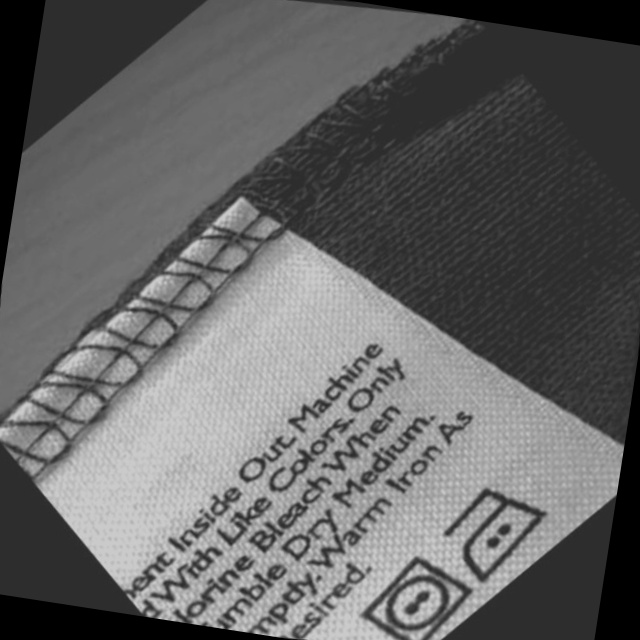iron_medium: (436, 476, 562, 592)
tumble_dry_medium: (355, 546, 484, 640)
